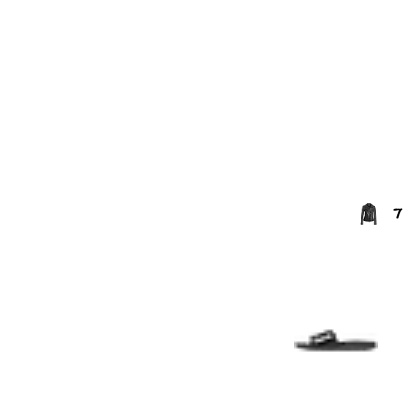7: (391, 205, 405, 219)
Coat: (357, 203, 379, 225)
Sandal: (294, 297, 378, 381)
